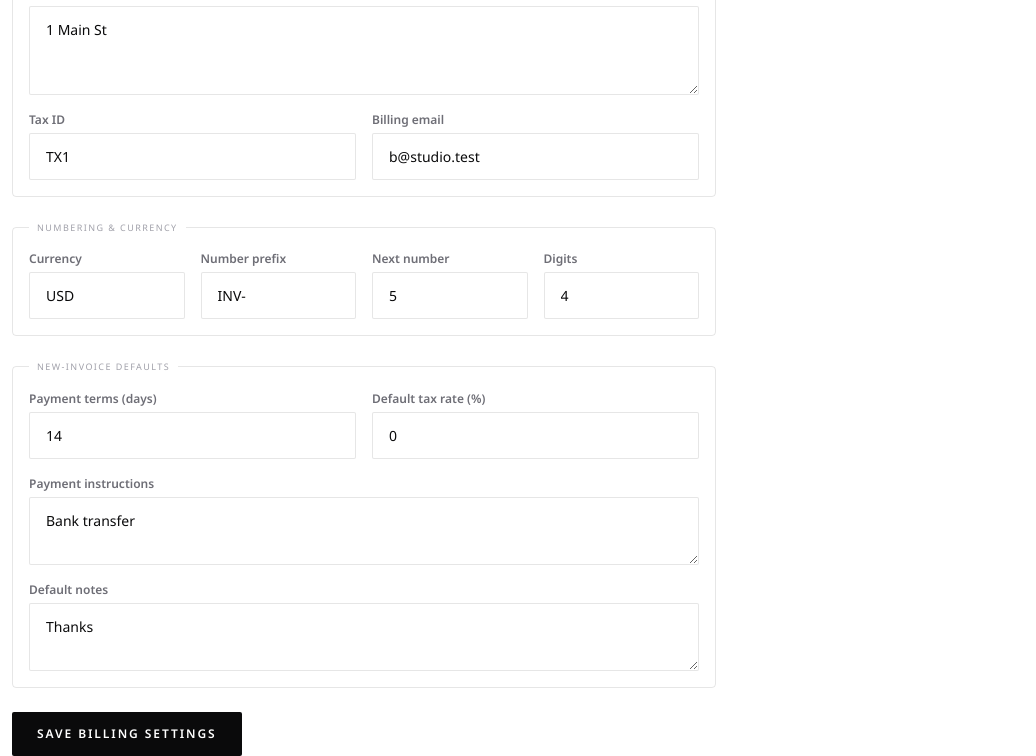
Test: BillingSettingsForm › saves a normalised payload and confirms
The image size is (1036, 756).
(page scrolled)
Click the button "Save billing settings" at coordinates (127, 734), box left=12, top=712, right=242, bottom=755
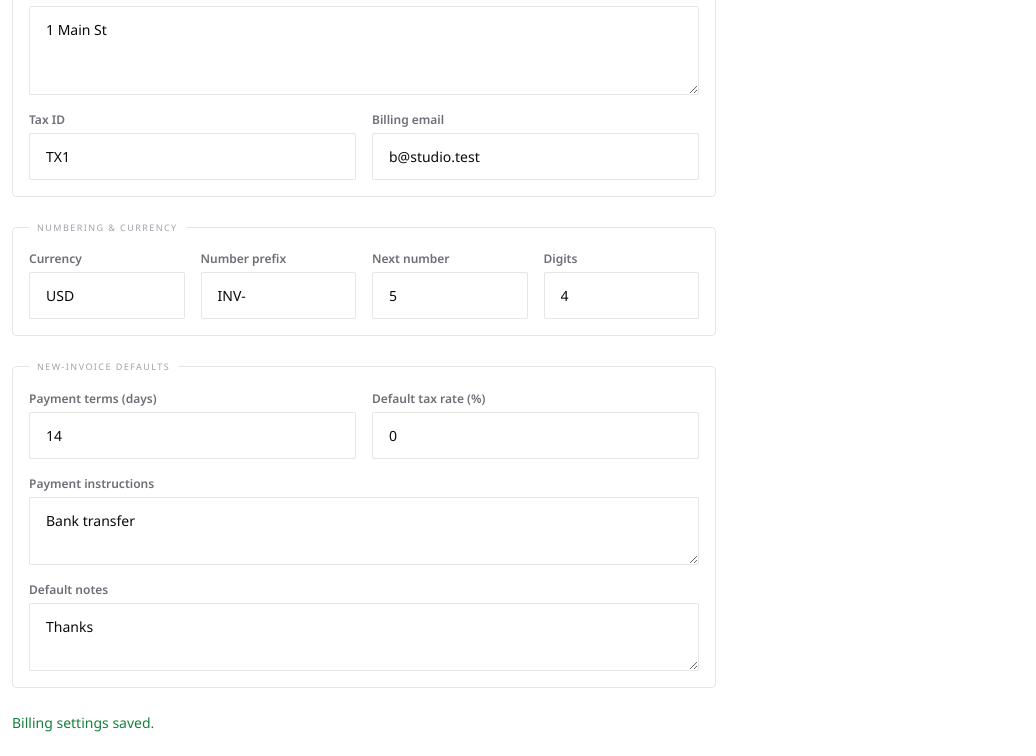
Expected: the text "Billing settings saved." is shown, left=12, top=712, right=154, bottom=732
